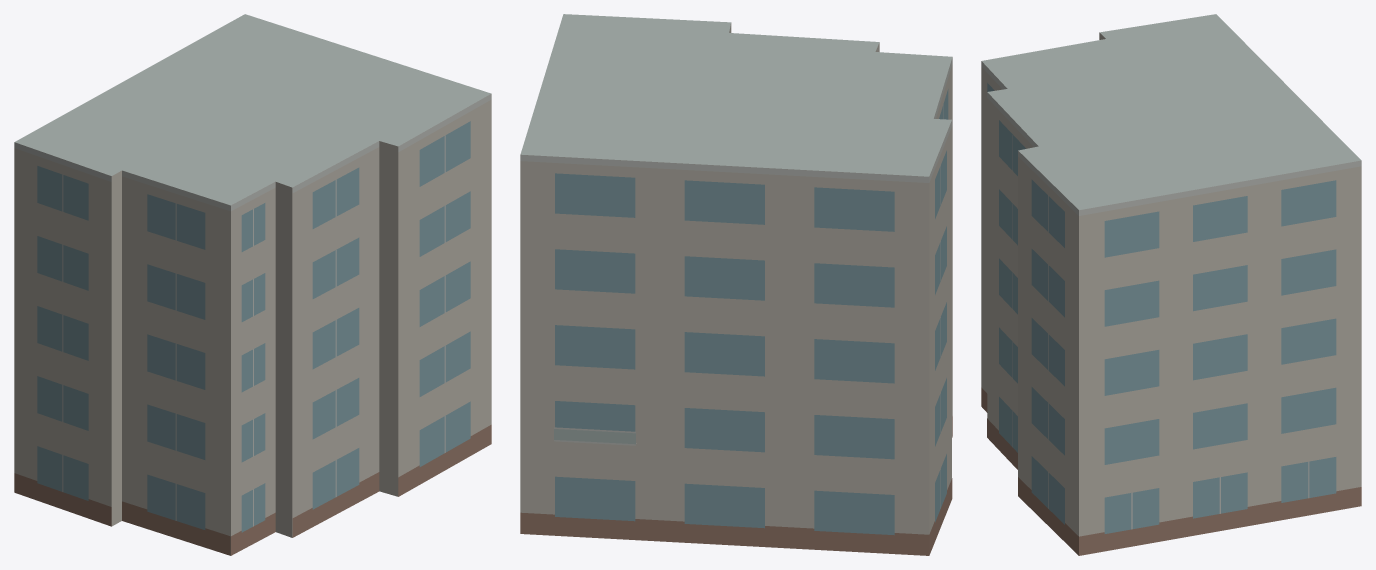
File: survey-upis-32946222.glb
3 views of the same model, side by side, from view 1: azimuth 30°, elevation 25°; view 2: azimuth 150°, elevation 25°; view 3: azimuth 270°, elevation 25° (orthographic). The views are drawn at different scales.
Parts seen in each view (by area): view 1: survey-upis-32946222.tmp; view 2: survey-upis-32946222.tmp; view 3: survey-upis-32946222.tmp.
Boxes of the visible parts, bbox=[...] form: survey-upis-32946222.tmp: bbox=[14, 14, 491, 555]; survey-upis-32946222.tmp: bbox=[520, 14, 952, 555]; survey-upis-32946222.tmp: bbox=[981, 14, 1361, 555].
Bounding box in the file's own units: 17.63 × 14.47 × 14.43.
